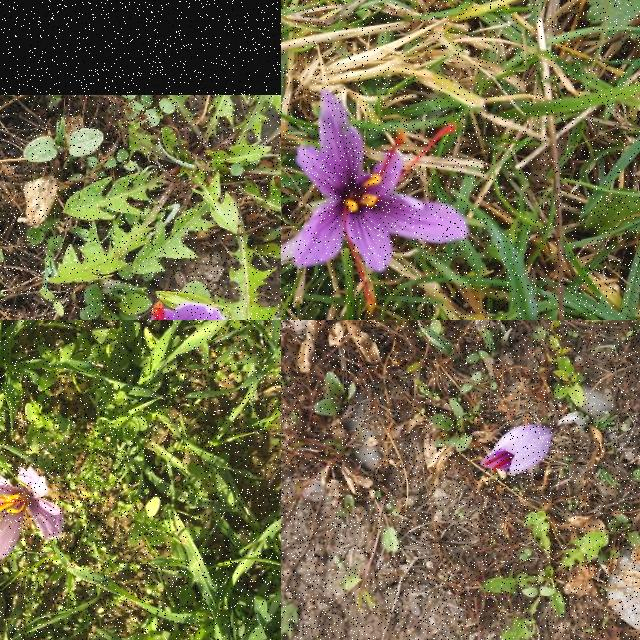flower: (292, 86, 468, 304), (0, 468, 63, 560), (480, 426, 552, 476)
